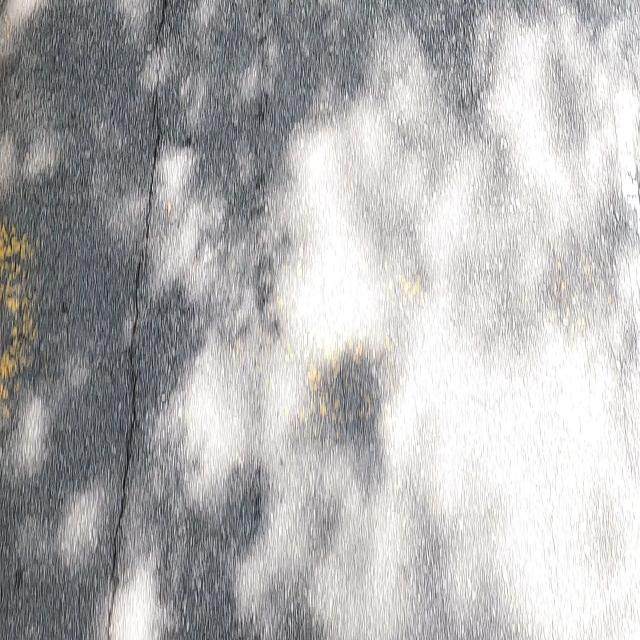Retak-Memanjang: (99, 5, 171, 637)
